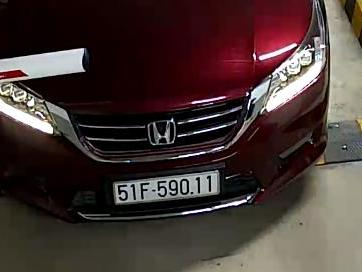number: (112, 171, 220, 206)
